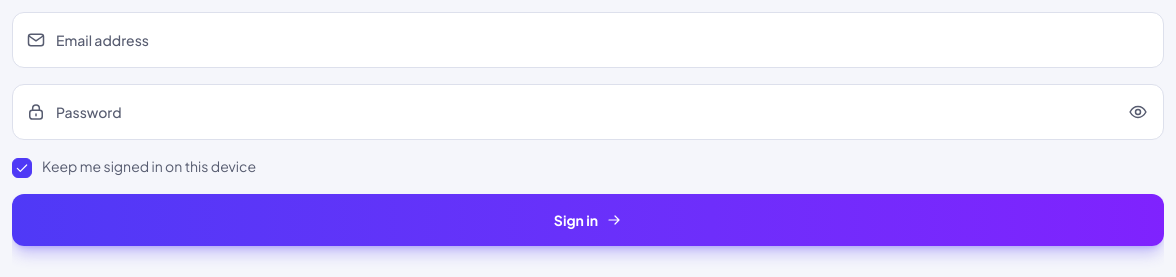
Test: LoginForm › submits valid details once
In the field labelled "Email address": (588, 40) [12,12,1164,68], type "Asha@example.com"
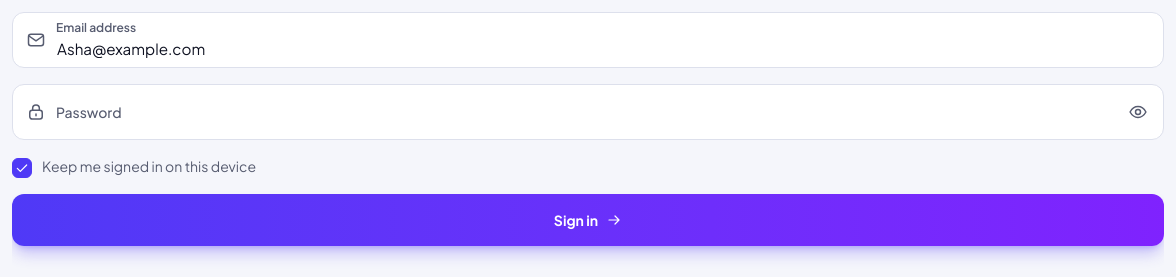
In the password field labelled "Password": (588, 112) [12,84,1164,140], type "sample-pass-1"
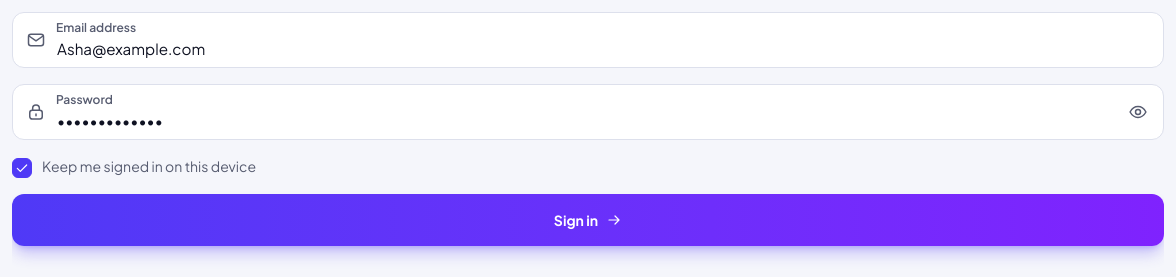
Click the button "Sign in": (588, 220) [12,194,1164,246]
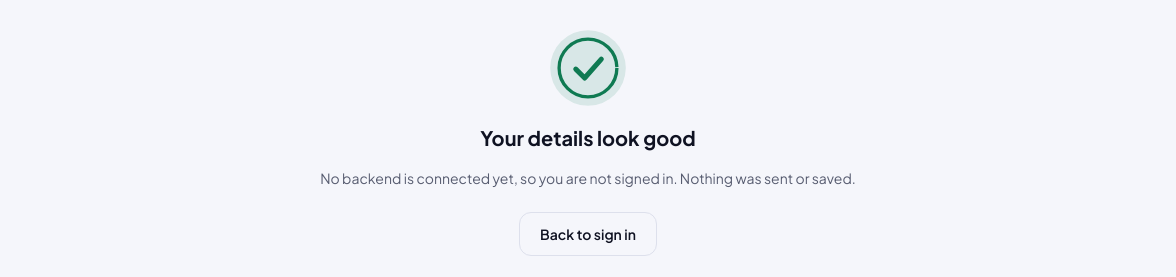
Result: the heading "Your details look good" is shown at [480,124,696,152]
